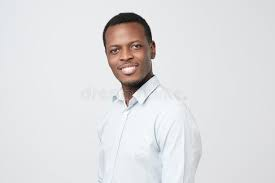black_male: (93, 11, 160, 106)
